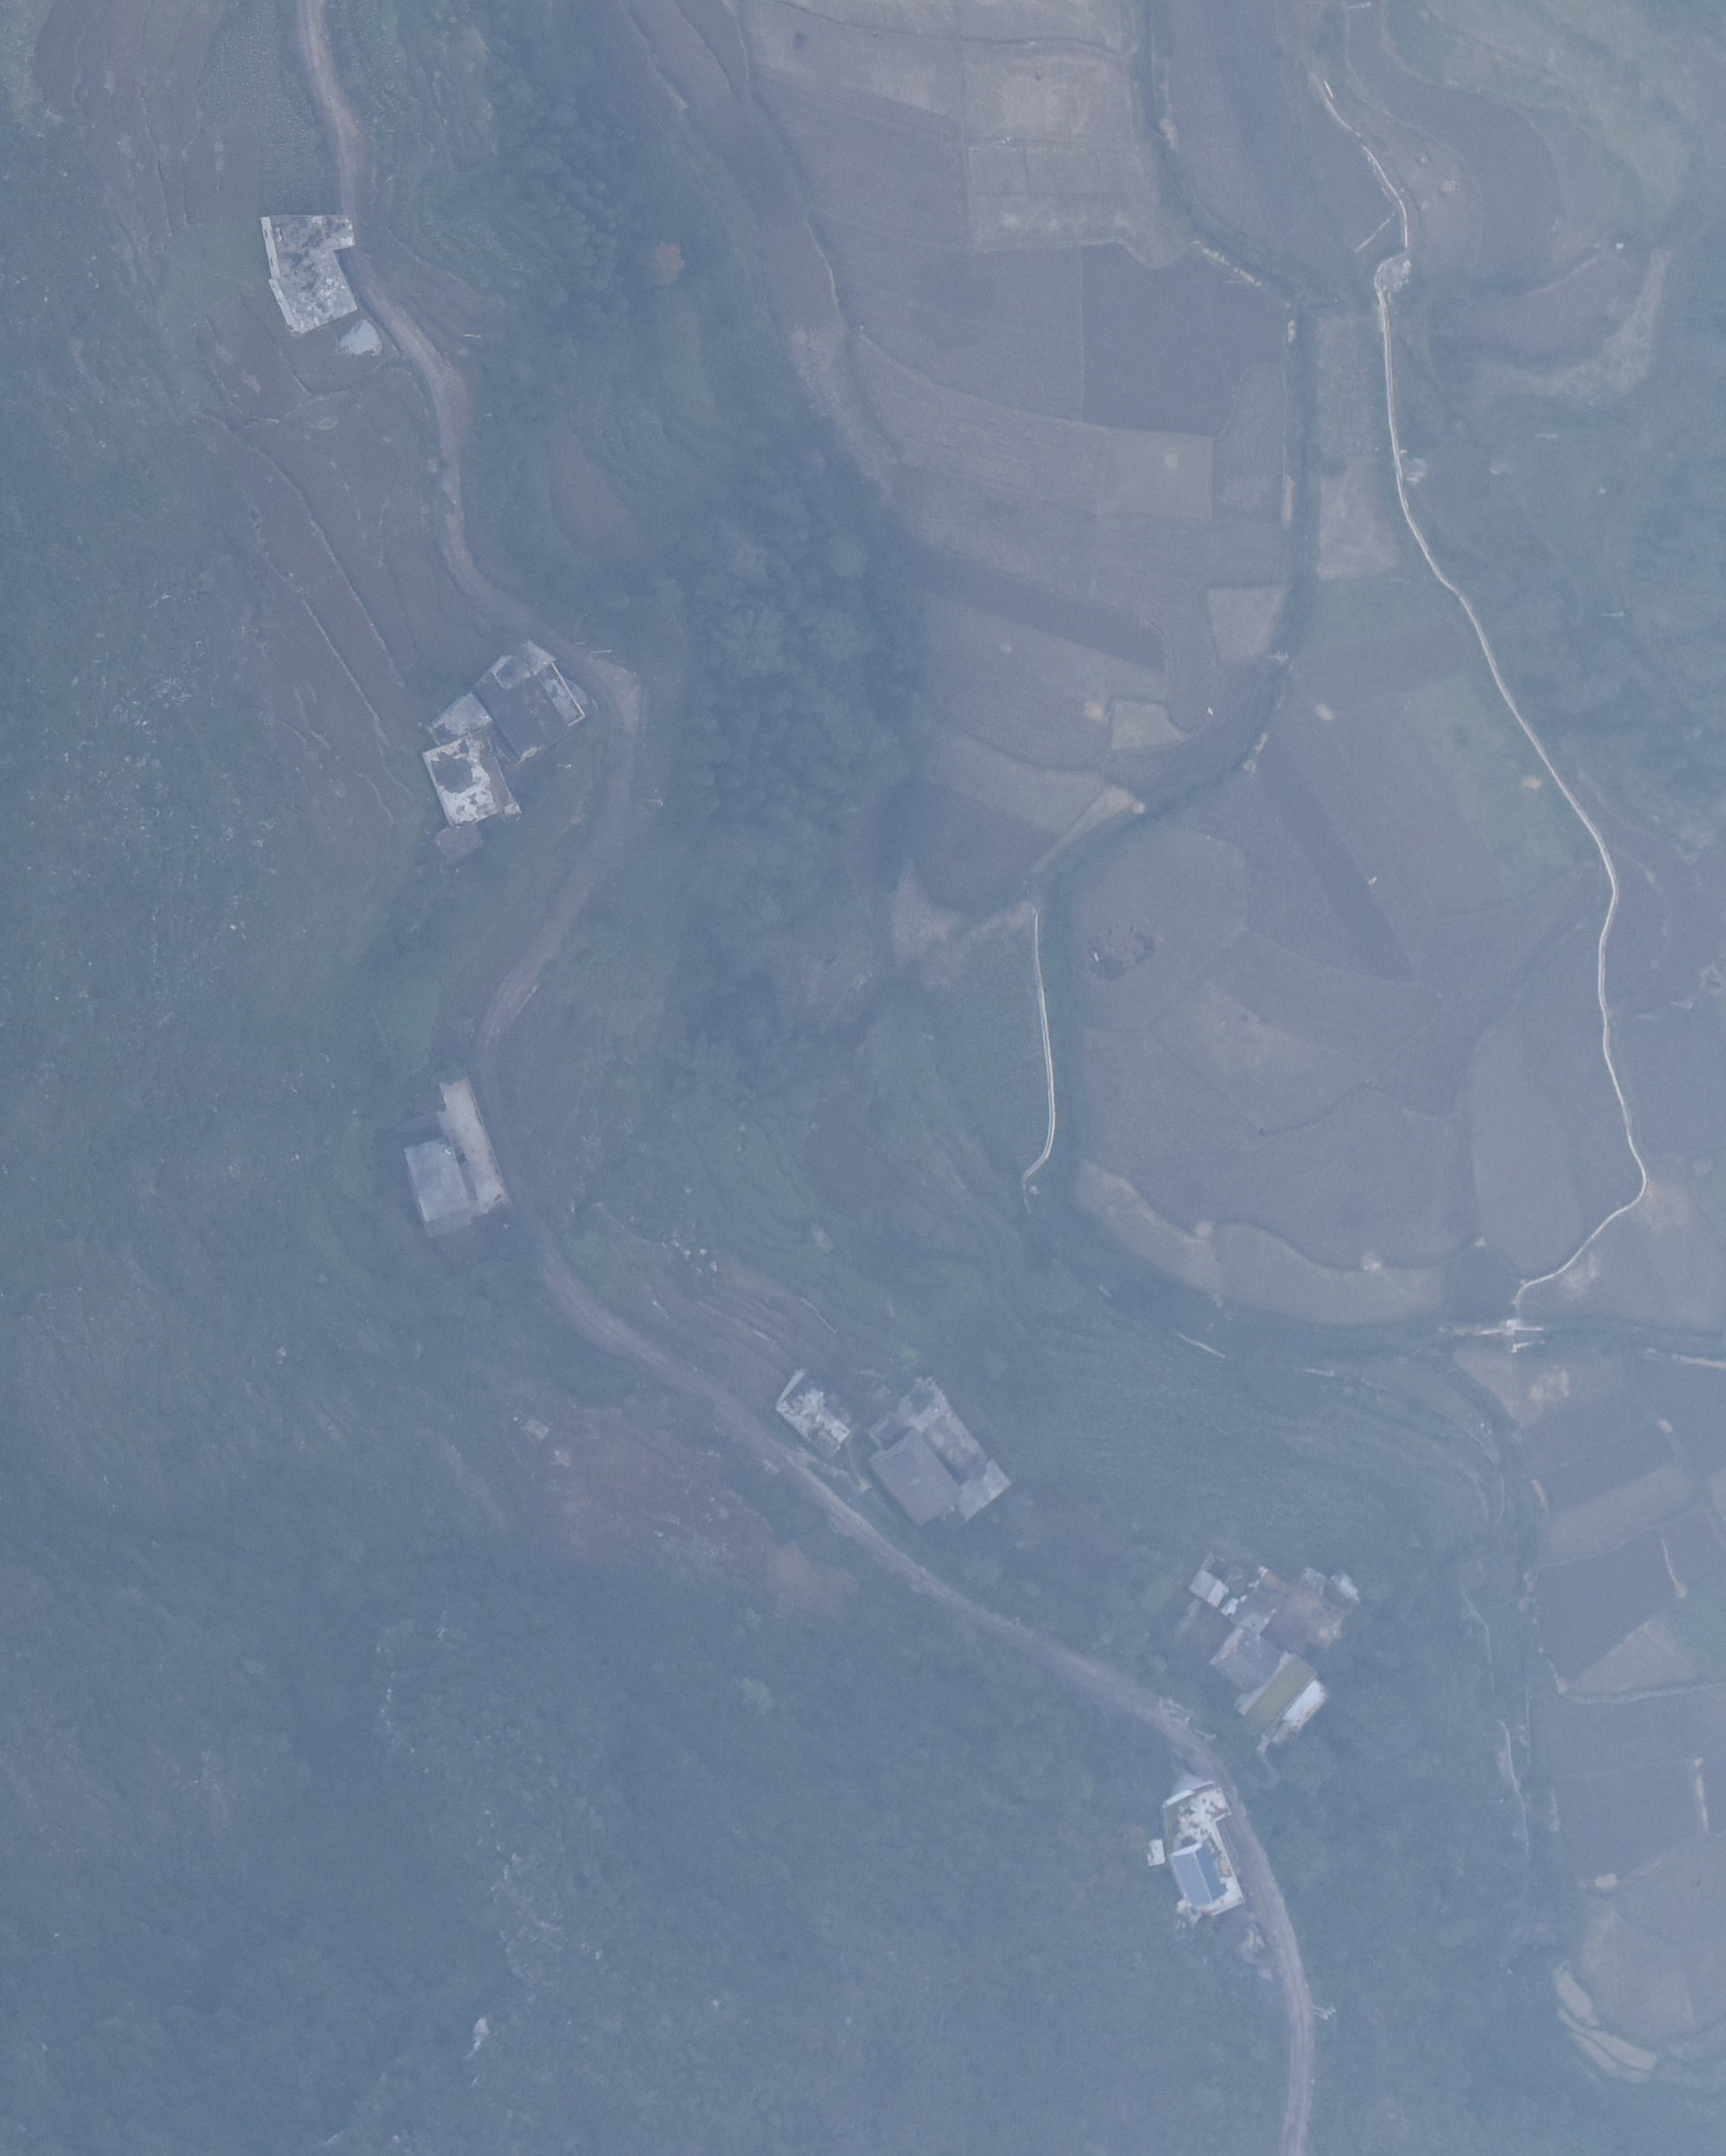building: (250, 208, 372, 348), (468, 637, 584, 767), (384, 1127, 489, 1268), (415, 726, 526, 838), (863, 1429, 964, 1535), (1229, 1643, 1326, 1750), (1204, 1616, 1286, 1706), (1172, 1839, 1231, 1918)
